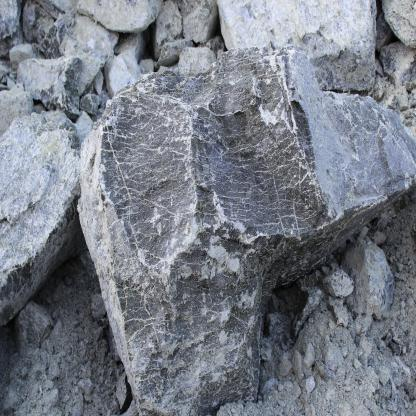stone: (80, 46, 416, 407), (0, 106, 82, 323), (16, 57, 84, 117), (344, 244, 394, 318), (15, 300, 49, 353), (104, 55, 131, 99), (323, 267, 356, 298), (78, 91, 99, 115)
